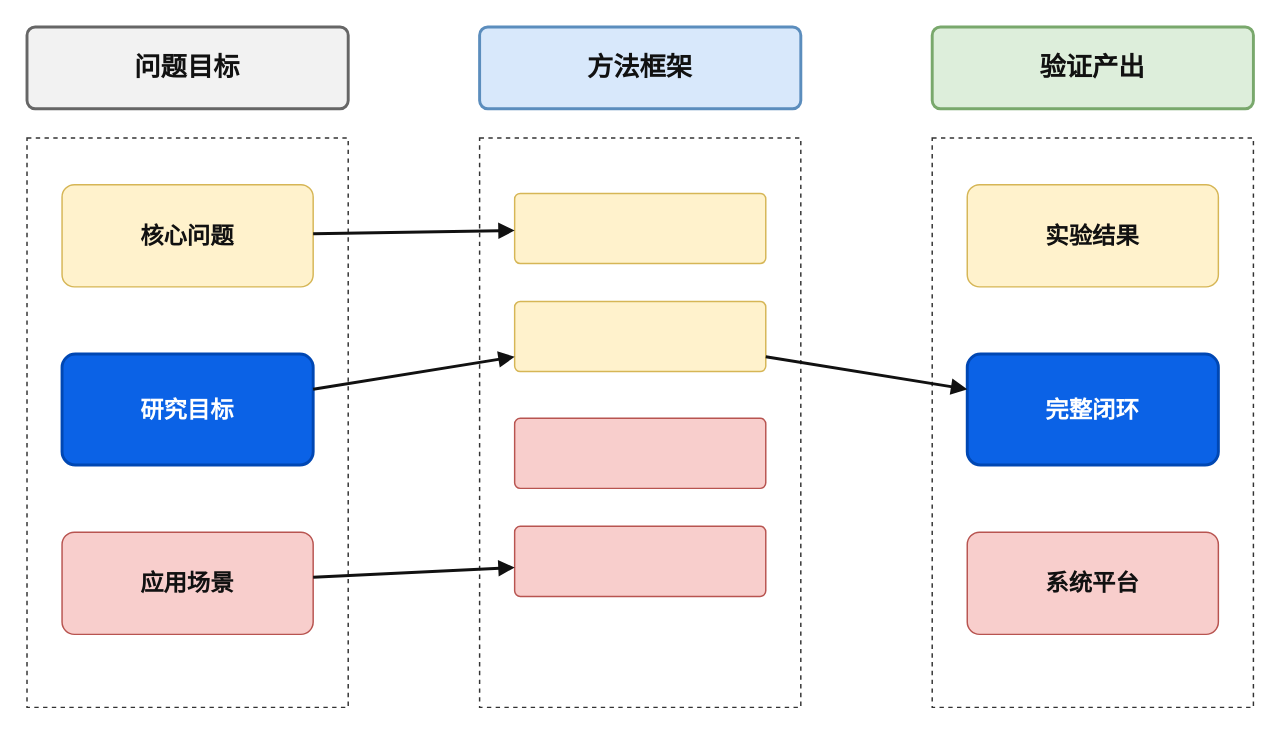
The diagram is 1279 pixels wide and 733 high, and some of its shapes have lost their labels. The centre of each missing label's shape, as x and y in pixels:
"任务一：建模" goes at (x=639, y=228).
"任务三：优化" goes at (x=639, y=452).
"任务二：生成" goes at (x=639, y=336).
"任务四：验证" goes at (x=639, y=560).
